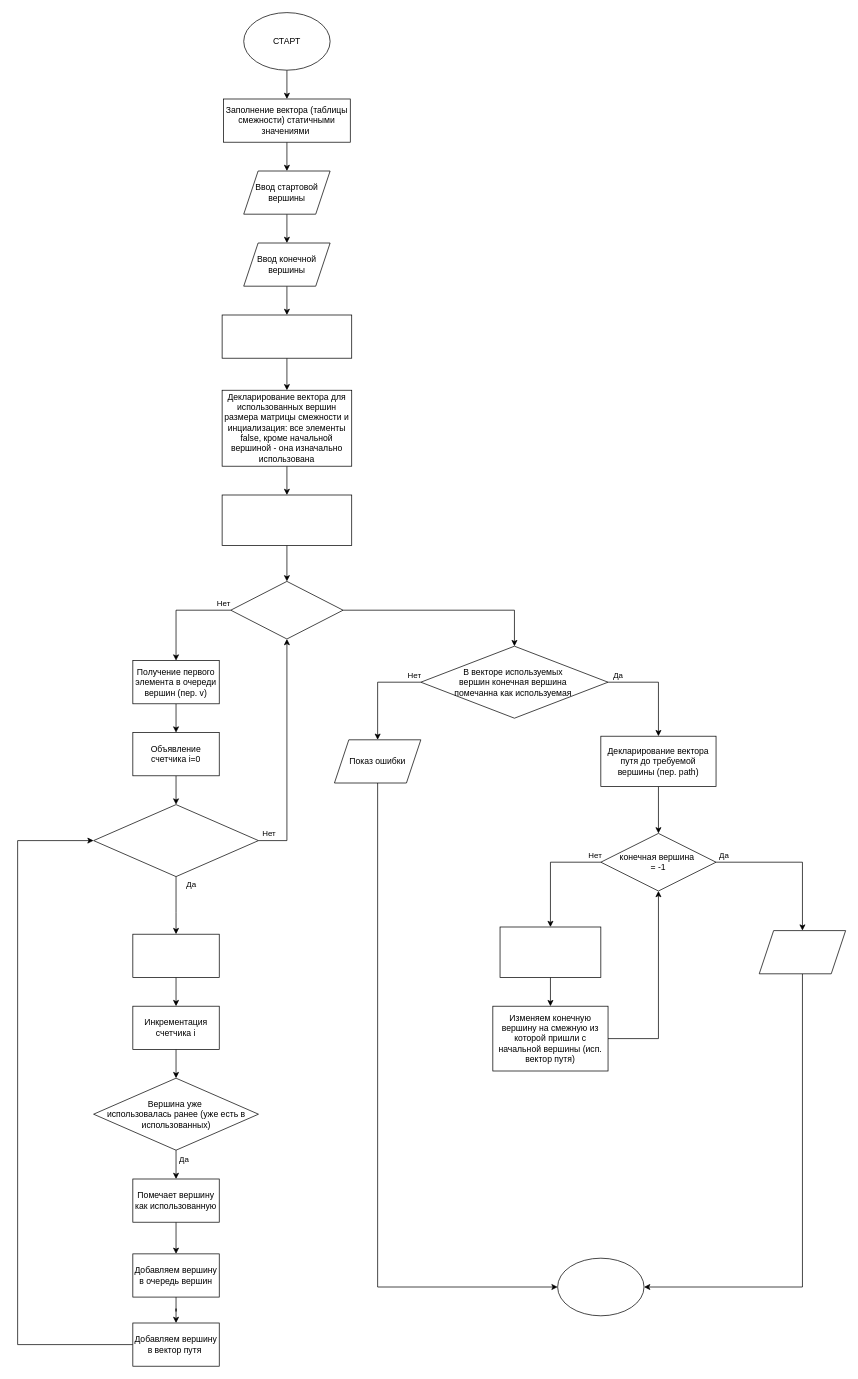
The diagram is 858 pixels wide and 1379 high, and some of its shapes have lost their labels. Here are the shapes that lost their labels. From the top down, the centre of each, then its label:
At (x=286, y=336): "Декларирование очереди сост . из вершин и инициализация ее стартовой вершиной".
At (x=286, y=519): "Декларирование вектора для хранения путя. Инициализация: конечная точка будет -1".
At (x=286, y=610): "Очередь вершин пуста".
At (x=175, y=840): "счетчик i меньше размера вектора смежных к выбранной вершине v".
At (x=175, y=955): "Получение i-ой смежной вершины к вершине v".
At (x=550, y=951): "Добавляем конечную вершину в вектор path".
At (x=802, y=952): "Вывод вектора path".
At (x=600, y=1286): "КОНЕЦ".
